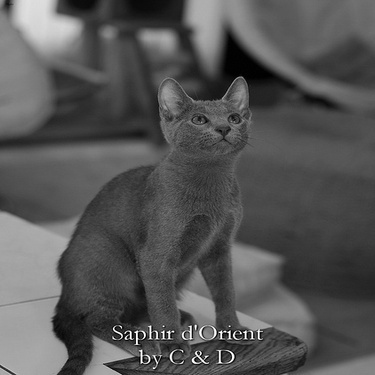cat: (48, 73, 257, 367)
